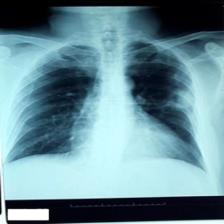tuberculosis: (4, 40, 210, 172)
